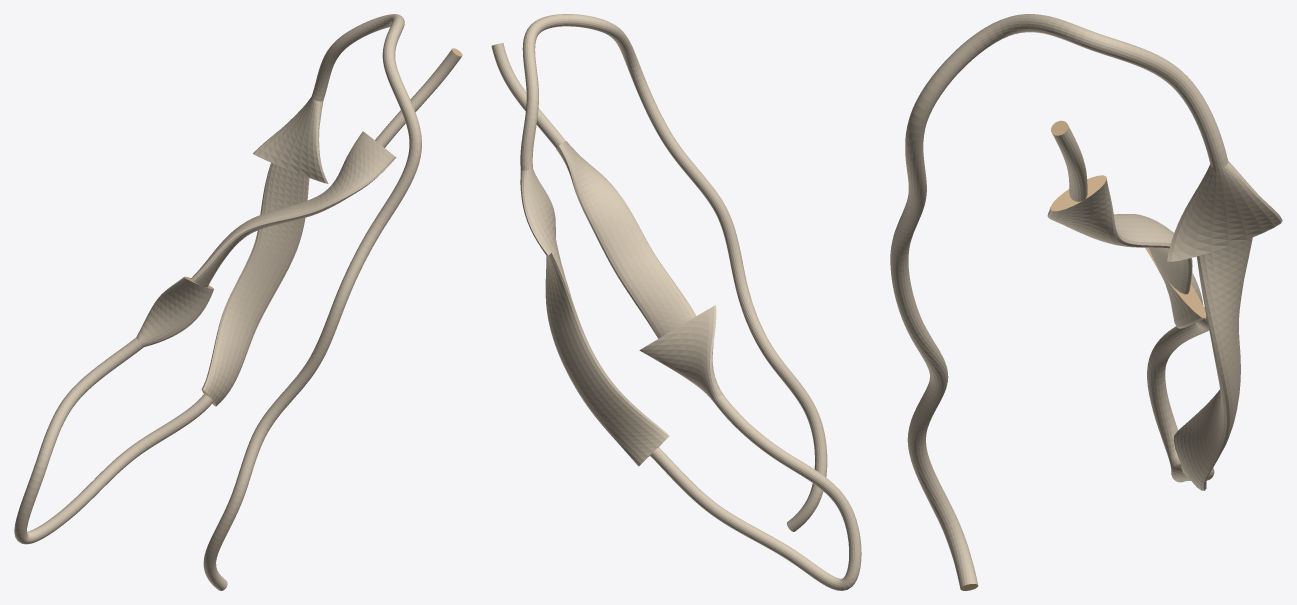
The model's file is SheetSheetSheet.dae.
3 views of the same model, side by side, from view 1: azimuth 30°, elevation 25°; view 2: azimuth 150°, elevation 25°; view 3: azimuth 270°, elevation 25° (orthographic). The views are drawn at different scales.
Visible parts, largest first — view 1: Shape_IndexedTriangleStripSet_024; view 2: Shape_IndexedTriangleStripSet_024; view 3: Shape_IndexedTriangleStripSet_024.
Boxes of the visible parts, x1,y1,x2,y2 form: Shape_IndexedTriangleStripSet_024: (14, 14, 462, 590); Shape_IndexedTriangleStripSet_024: (491, 14, 861, 590); Shape_IndexedTriangleStripSet_024: (890, 14, 1282, 590).
Size of the model in its own units: 18.78 by 10.72 by 21.69.
